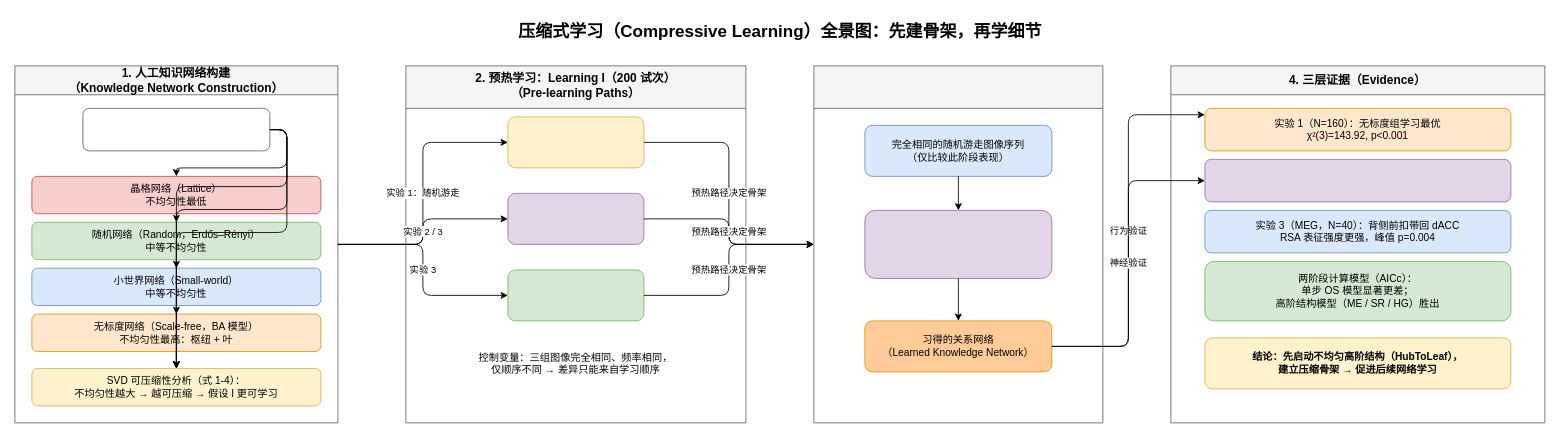
This 1560x438 diagram has some shape labels left out. The shapes that lost their labels are listed below. From the top down, each one's box as (x1, y1, x2, y2) in pixels, then its label:
(82, 108, 270, 151): 16 张黑白图像 （随机映射到节点）
(507, 116, 644, 168): RandomWalk 随机游走原始顺序
(1204, 159, 1511, 202): 实验 2（N=238）：HubToLeaf 组最优 HubToLeaf vs RandomWalk z=10.73, p<0.001
(507, 193, 644, 244): HubToLeaf 按节点度降序：先枢纽后叶
(813, 65, 1103, 423): 3. 正式学习：Learning II（800 / 600 试次） （Random-walk Learning）
(864, 210, 1052, 278): 先建好的网络骨架 （Network Skeleton）: 枢纽子结构 = 骨架
(507, 269, 644, 321): LeafToHub 按节点度升序：先叶后枢纽
